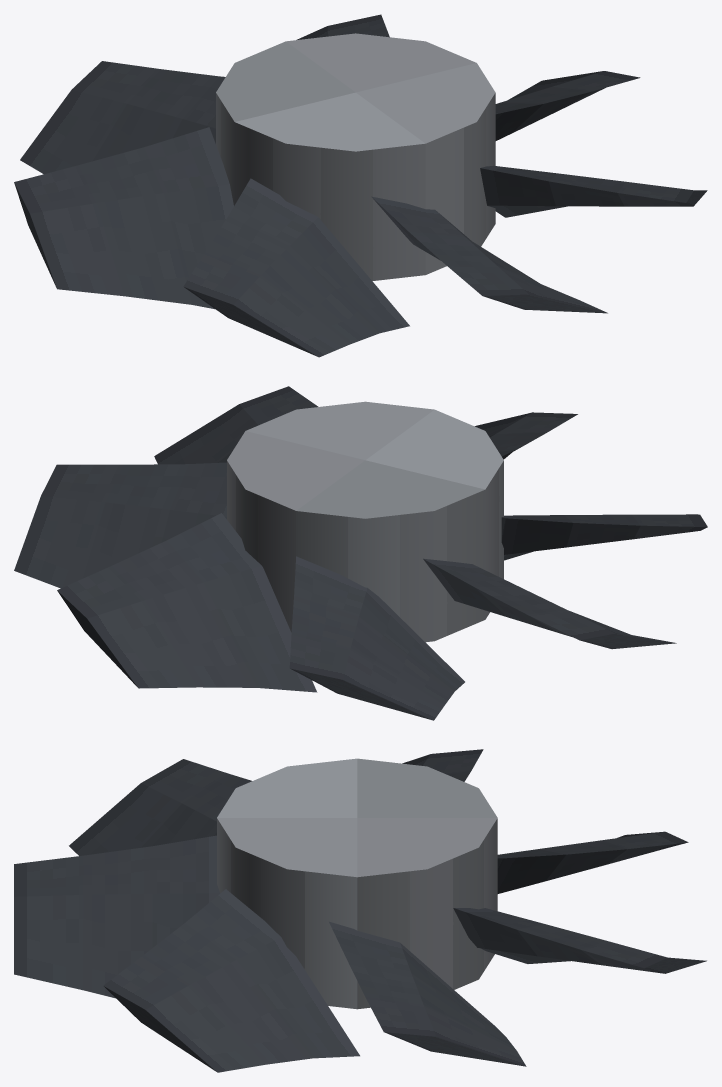
File: rack_fan_rotor.obj
The picture shows the model from 3 angles, top to bottom: view 1: azimuth 30°, elevation 25°; view 2: azimuth 150°, elevation 25°; view 3: azimuth 270°, elevation 25°; orthographic projection.
Bounding box in the file's own units: 0.135 × 0.0348 × 0.1334.
